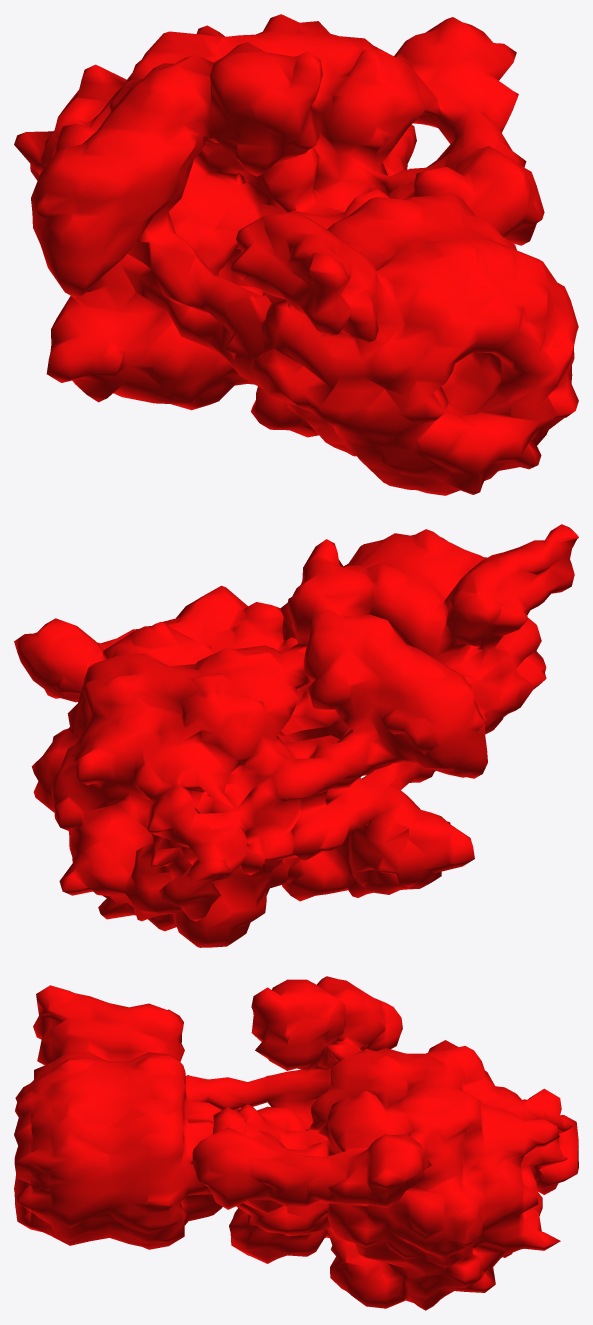
The model's file is ATPaseAligned_1_0.dae.
The picture shows the model from 3 angles, top to bottom: view 1: azimuth 30°, elevation 25°; view 2: azimuth 150°, elevation 25°; view 3: azimuth 270°, elevation 25°; orthographic projection. The views are drawn at different scales.
Visible parts, largest first — view 1: vesicle_MeshVes203Mesh; view 2: vesicle_MeshVes203Mesh; view 3: vesicle_MeshVes203Mesh.
Part boxes in pixels (x1,y1,x2,y2): vesicle_MeshVes203Mesh: (14, 14, 578, 495); vesicle_MeshVes203Mesh: (14, 524, 578, 947); vesicle_MeshVes203Mesh: (14, 976, 578, 1310).
Bounding box in the file's own units: 1.93 × 1.43 × 2.53.
